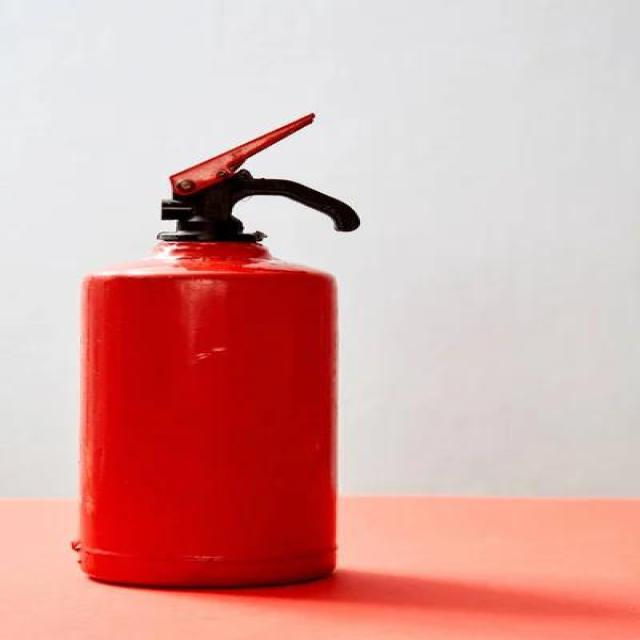fire_extinguisher: (63, 105, 367, 600)
